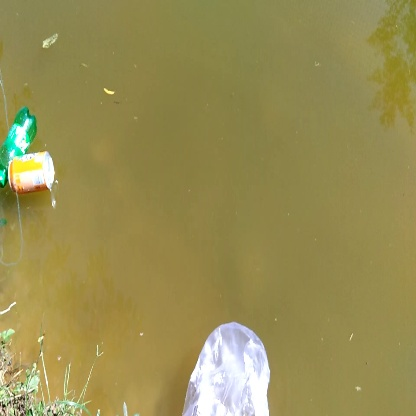bottle: (7, 152, 68, 194)
